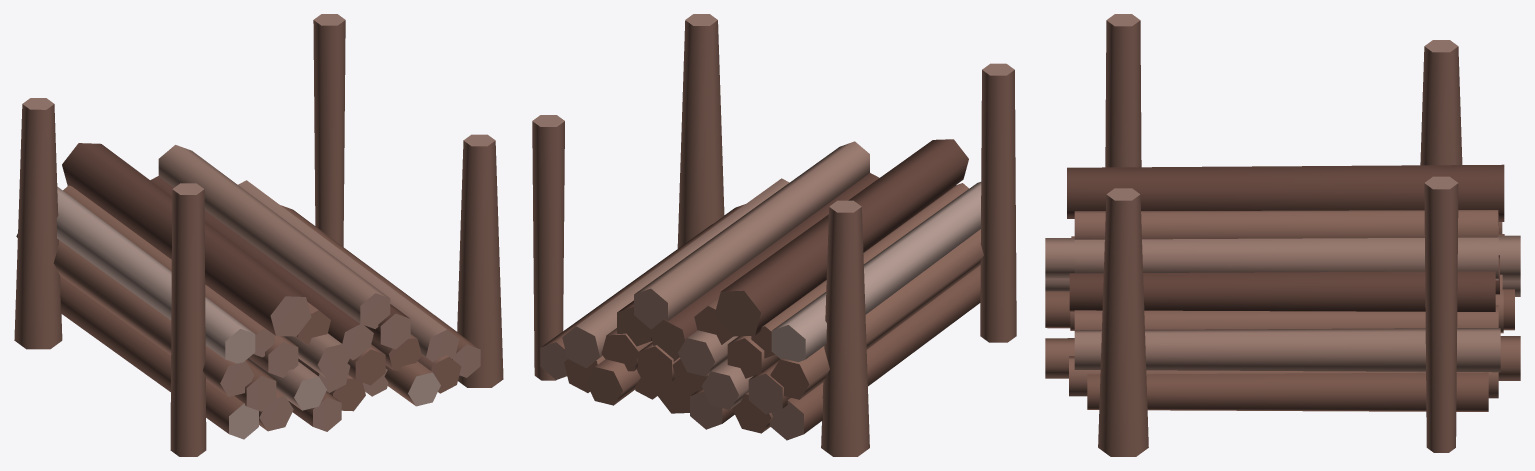
File: log_001.glb
3 views of the same model, side by side, from view 1: azimuth 30°, elevation 25°; view 2: azimuth 150°, elevation 25°; view 3: azimuth 270°, elevation 25° (orthographic). The views are drawn at different scales.
Parts seen in each view (by area): view 1: log_001; view 2: log_001; view 3: log_001.
Boxes of the visible parts, x1,y1,x2,y2 form: log_001: (14, 14, 503, 456); log_001: (532, 14, 1016, 456); log_001: (1045, 14, 1520, 456).
Bounding box in the file's own units: 2.37 × 1.81 × 2.82.
1 material, 1 textured.
